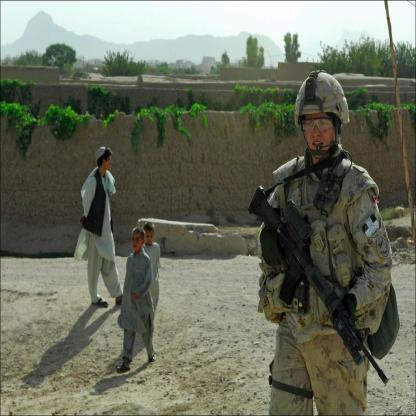Helmet: (302, 75, 350, 165)
